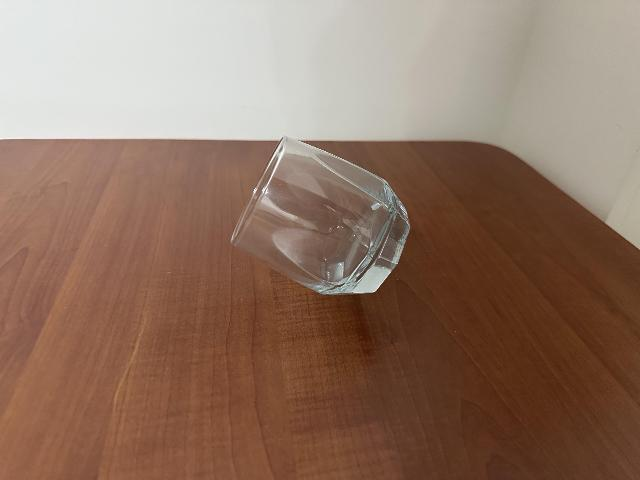Cam: (227, 133, 411, 303)
